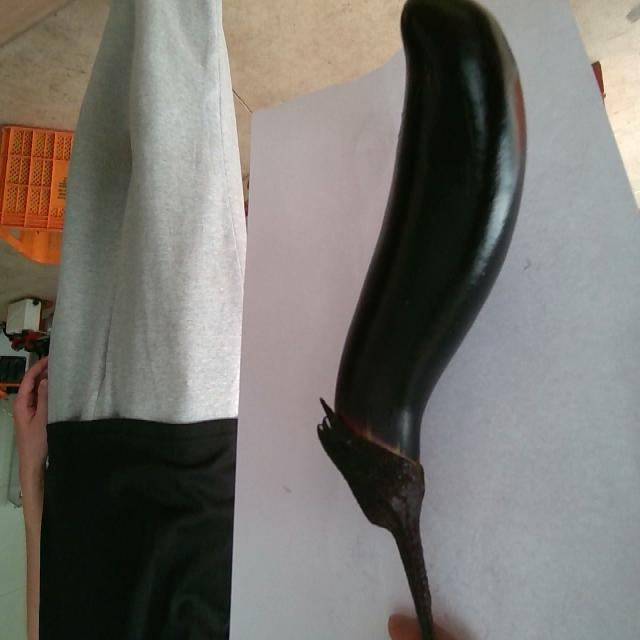Egg plant: (318, 3, 526, 640)
